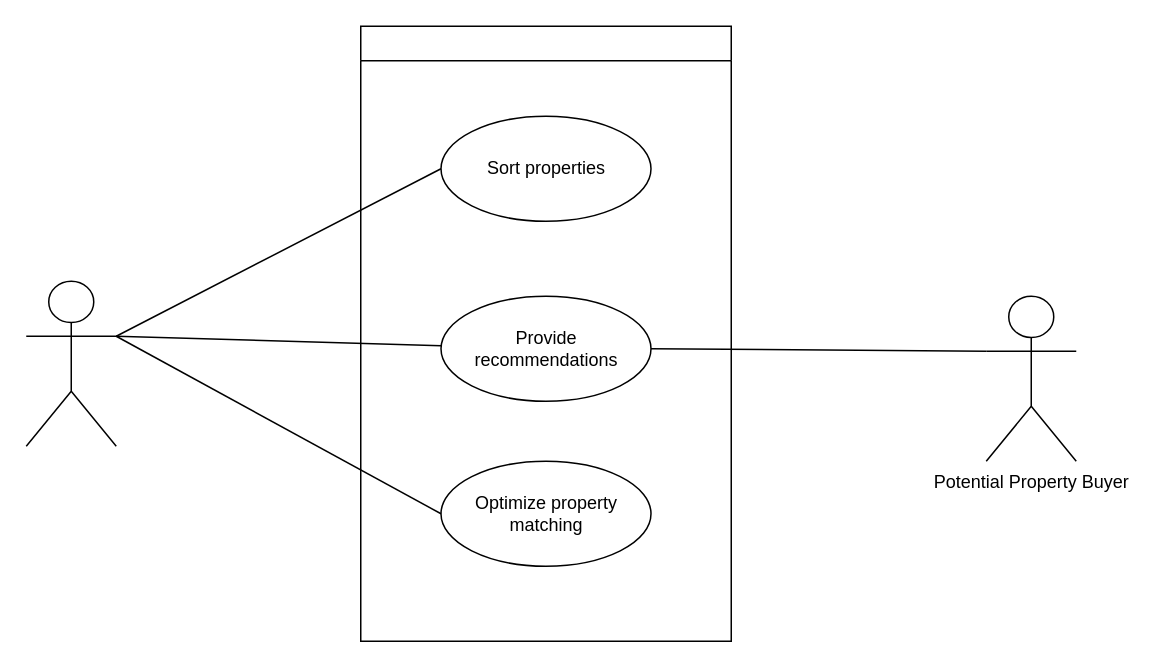
The diagram is 1155 pixels wide and 668 high, and some of its shapes have lost their labels. Here are the shapes that lost their labels. From the top down, the box of each, then its label:
(359, 25, 731, 641): Reccomendation Subsystem
(25, 280, 116, 446): AI
